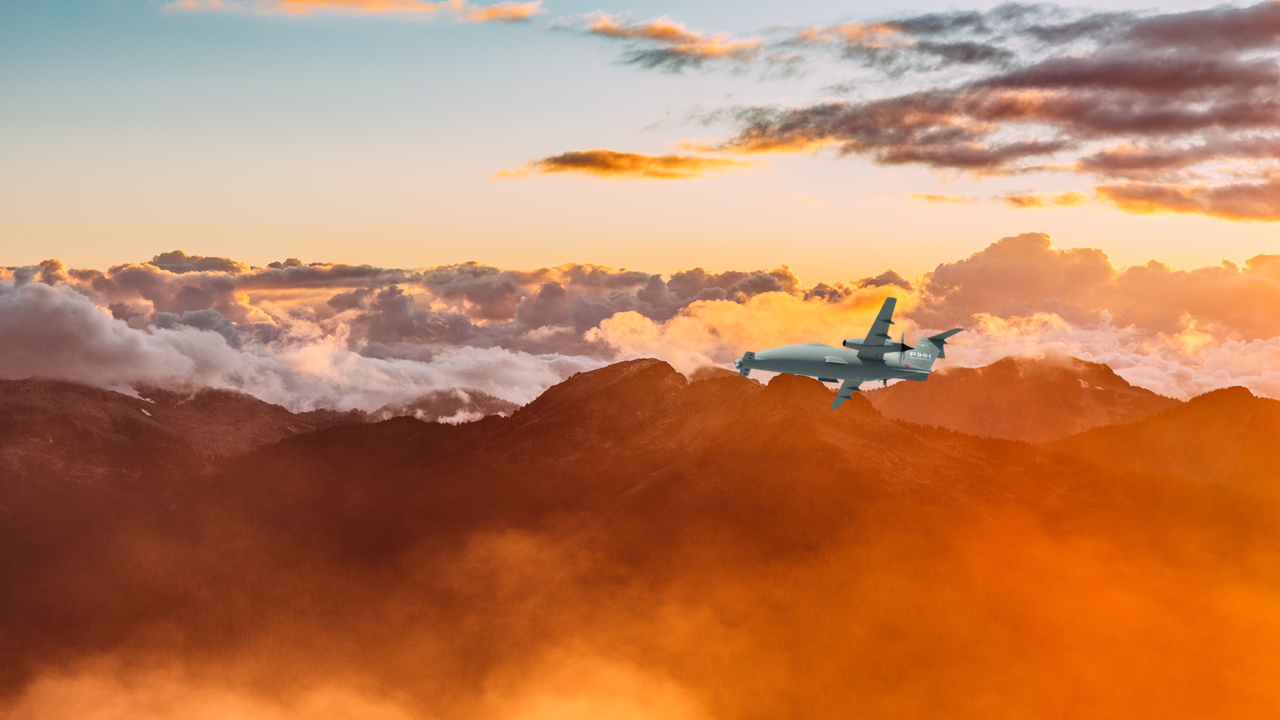military drone: (733, 297, 963, 408)
